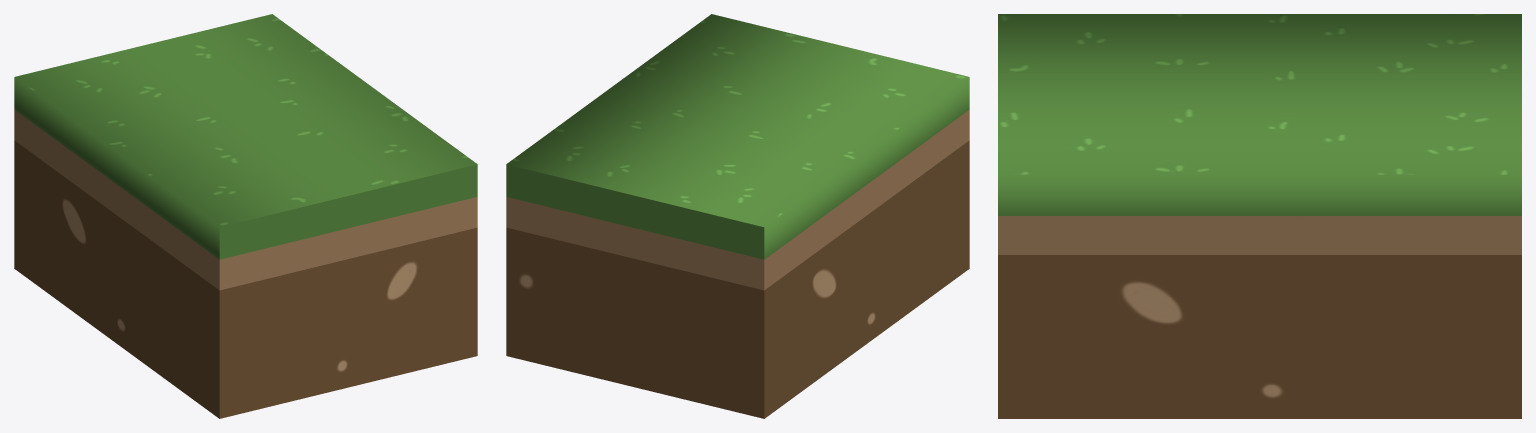
File: GrassBlock.fbx
The picture shows the model from 3 angles, left to right: view 1: azimuth 30°, elevation 25°; view 2: azimuth 150°, elevation 25°; view 3: azimuth 270°, elevation 25°; orthographic projection. The views are drawn at different scales.
Parts seen in each view (by area): view 1: Land001; view 2: Land001; view 3: Land001.
Boxes of the visible parts, x1,y1,x2,y2 form: Land001: (14, 14, 477, 418); Land001: (506, 14, 969, 418); Land001: (998, 14, 1521, 418).
Bounding box in the file's own units: 72.83 × 51.65 × 100.
Materials: 1 (1 with a texture image).
